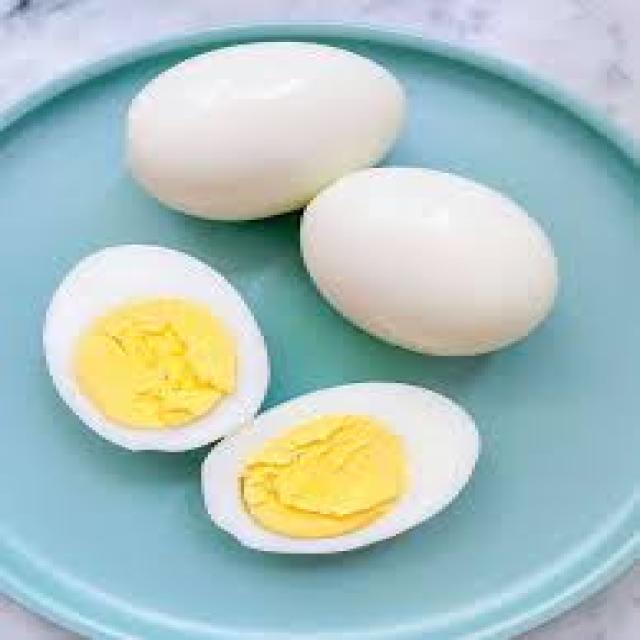boiled egg: (33, 237, 490, 567), (126, 43, 405, 222), (301, 169, 557, 355)
